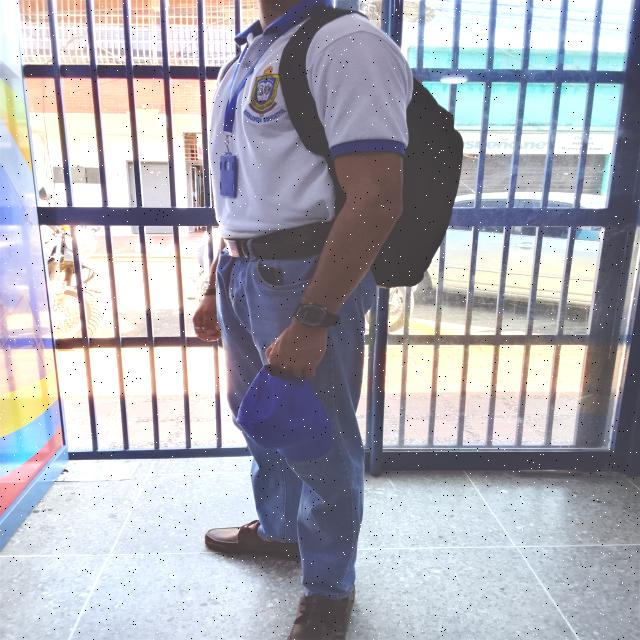carnet: (220, 156, 237, 198)
uniforme_superior: (208, 0, 413, 238)
